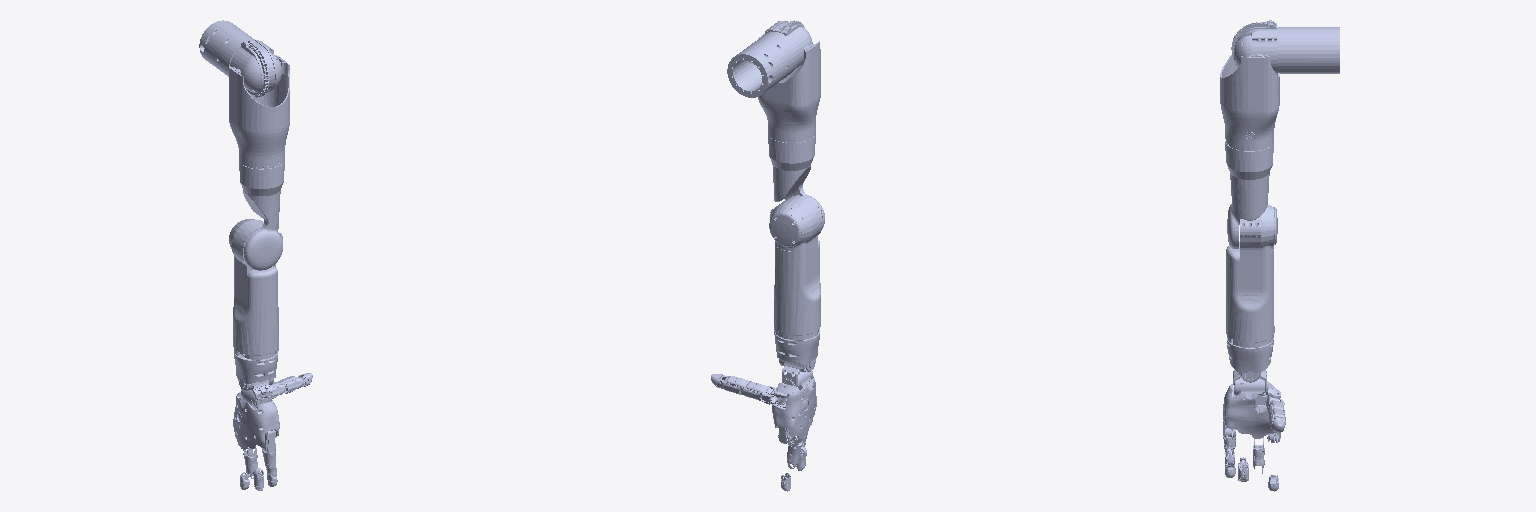
--- What the picture shows (computed from the rendered views, not written in the file) ---
3 views of the same robot in one strip: view 1: azimuth 30°, elevation 25°; view 2: azimuth 150°, elevation 25°; view 3: azimuth 270°, elevation 25° (orthographic).
Model MPL_Shell2 with 29 links and 28 joints (27 revolute, 1 fixed), rooted at base_link, posed every joint at zero.
Visible links, largest first — view 1: forearm, humerus, lower_humerus, shoulder, palm, base_link, wristy; view 2: forearm, humerus, base_link, lower_humerus, palm, wristy, shoulder; view 3: forearm, humerus, lower_humerus, base_link, palm, shoulder, wristy.
Boxes of the visible links, x1,y1,x2,y2 form: forearm: (229,219,282,359); humerus: (229,55,289,168); lower_humerus: (239,162,284,270); shoulder: (230,40,281,97); palm: (233,392,279,449); base_link: (199,20,254,76); wristy: (234,353,277,390); forearm: (769,195,822,339); humerus: (758,34,820,142); base_link: (727,32,798,97); lower_humerus: (768,135,824,234); palm: (772,376,816,438); wristy: (774,329,819,371); shoulder: (765,20,812,77); forearm: (1226,205,1277,347); humerus: (1220,55,1279,150); lower_humerus: (1225,141,1273,248); base_link: (1277,27,1339,73); palm: (1223,382,1280,438); shoulder: (1231,20,1276,73); wristy: (1227,338,1273,382).
Bounding box of the posed robot: 0.1624 × 0.1788 × 0.7751 m (x, y, z).
21 mesh visuals loaded from 29 distinct referenced files (21 OBJ); not drawn: 8 (reference not matched to a file when rendering).

The robot description file, URDF, robot "MPL_Shell2":
<robot
  name="MPL_Shell2">
  <link
    name="base_link">
    <inertial>
      <origin
        xyz="0.00393619295985793 0.0455004970707574 -0.000114423209567375"
        rpy="0 0 0" />
      <mass
        value="0.155708299809078" />
      <inertia
        ixx="0.000198286723644176"
        ixy="5.15825480481307E-06"
        ixz="1.87344010968919E-07"
        iyy="0.000145239460391918"
        iyz="2.40431862621867E-07"
        izz="0.000188079268371058" />
    </inertial>
    <visual>
      <origin
        xyz="0 0 0"
        rpy="0 0 0" />
      <geometry>
        <mesh
          filename="meshes/base_link.obj" />
      </geometry>
      <material
        name="">
        <color
          rgba="0.792156862745098 0.819607843137255 0.933333333333333 1" />
      </material>
    </visual>
  </link>

  <link
    name="shoulder">
    <inertial>
      <origin
        xyz="0.00053626037123725 0.00200195706607822 0.0332799933130828"
        rpy="0 0 0" />
      <mass
        value="0.0363799064562326" />
      <inertia
        ixx="3.73004982794341E-05"
        ixy="5.68583128674669E-07"
        ixz="-7.59540426519701E-07"
        iyy="2.6055803459056E-05"
        iyz="-9.15511861181247E-07"
        izz="3.8618586384315E-05" />
    </inertial>
    <visual>
      <origin
        xyz="0 0 0"
        rpy="0 0 0" />
      <geometry>
        <mesh
          filename="meshes/shoulder.obj" />
      </geometry>
      <material
        name="">
        <color
          rgba="0.792156862745098 0.819607843137255 0.933333333333333 1" />
      </material>
    </visual>
  </link>

  <joint
    name="shoulderz"
    type="revolute">
    <origin
      xyz="0 0 0"
      rpy="1.5707963267949 0 0" />
    <parent
      link="base_link" />
    <child
      link="shoulder" />
    <axis
      xyz="0 0 1" />
  </joint>

 <transmission type="SimpleTransmission" name="shoulderz_trans">
    <actuator name="shoulderz_torque" />
    <joint name="shoulderz" />
    <mechanicalReduction>1</mechanicalReduction>
  </transmission>

  <link
    name="humerus">
    <inertial>
      <origin
        xyz="-0.00522997872428727 -0.0834807430260893 0.0108424934218675"
        rpy="0 0 0" />
      <mass
        value="0.0857897702132028" />
      <inertia
        ixx="0.000259544233373952"
        ixy="-4.20379221363119E-06"
        ixz="9.18423778177478E-07"
        iyy="0.000134353123274701"
        iyz="-1.37916957116714E-05"
        izz="0.0002849825478504" />
    </inertial>
    <visual>
      <origin
        xyz="0 0 0"
        rpy="0 0 0" />
      <geometry>
        <mesh
          filename="meshes/humerus.obj" />
      </geometry>
      <material
        name="">
        <color
          rgba="0.792156862745098 0.819607843137255 0.933333333333333 1" />
      </material>
    </visual>
  </link>

  <joint
    name="shoulderx"
    type="revolute">
    <origin
      xyz="0.00164280000000001 0 0.027295"
      rpy="0 0 0" />
    <parent
      link="shoulder" />
    <child
      link="humerus" />
    <axis
      xyz="-1 0 0" />
  </joint>


 <transmission type="SimpleTransmission" name="shoulderx_trans">
    <actuator name="shoulderx_torque" />
    <joint name="shoulderx" />
    <mechanicalReduction>1</mechanicalReduction>
  </transmission>


  <link
    name="lower_humerus">
    <inertial>
      <origin
        xyz="-0.00116461256867187 -0.00731549753415162 -0.0740904947981883"
        rpy="0 0 0" />
      <mass
        value="0.0351908595008693" />
      <inertia
        ixx="0.000106584594982158"
        ixy="2.34411767892075E-06"
        ixz="5.90981930034932E-06"
        iyy="0.000106707923152588"
        iyz="1.56519202722981E-05"
        izz="3.29647759199842E-05" />
    </inertial>
    <visual>
      <origin
        xyz="0 0 0"
        rpy="0 0 0" />
      <geometry>
        <mesh
          filename="meshes/lower_humerus.obj" />
      </geometry>
      <material
        name="">
        <color
          rgba="0.792156862745098 0.819607843137255 0.933333333333333 1" />
      </material>
    </visual>
  </link>

  <joint
    name="humerus"
    type="revolute">
    <origin
      xyz="-0.0016397 -0.150067219999992 0.0138906542099971"
      rpy="-1.5707963267949 -2.97009943141911E-17 -4.85743832441789E-17" />
    <parent
      link="humerus" />
    <child
      link="lower_humerus" />
    <axis
      xyz="0 0 -1" />
  </joint>

 <transmission type="SimpleTransmission" name="humerus_trans">
    <actuator name="humerus_torque" />
    <joint name="humerus" />
    <mechanicalReduction>1</mechanicalReduction>
  </transmission>


  <link
    name="forearm">
    <inertial>
      <origin
        xyz="0.0215525954489544 -0.0733139430283116 0.000589426653904816"
        rpy="0 0 0" />
      <mass
        value="0.0997004881323453" />
      <inertia
        ixx="0.000498861218238686"
        ixy="3.76068927506325E-05"
        ixz="-3.5608092987334E-07"
        iyy="0.000102150048169159"
        iyz="5.83137758717366E-06"
        izz="0.000499799444466365" />
    </inertial>
    <visual>
      <origin
        xyz="0 0 0"
        rpy="0 0 0" />
      <geometry>
        <mesh
          filename="meshes/forearm.obj" />
      </geometry>
      <material
        name="">
        <color
          rgba="0.792156862745098 0.819607843137255 0.933333333333333 1" />
      </material>
    </visual>
  </link>




  <joint
    name="elbow"
    type="revolute">
    <origin
      xyz="-0.00999999999999948 -0.0153475999999826 -0.144409618700001"
      rpy="1.5707963267949 2.4980018054066E-16 1.5707963267949" />
    <parent
      link="lower_humerus" />
    <child
      link="forearm" />
    <axis
      xyz="1 0 0" />
  </joint>

 <transmission type="SimpleTransmission" name="elbow_torque">
    <actuator name="elbow" />
    <joint name="elbow" />
    <mechanicalReduction>1</mechanicalReduction>
  </transmission>

  <link
    name="wristy">
    <inertial>
      <origin
        xyz="-0.0217787533515095 -0.000286183263809584 -7.07475168545829E-05"
        rpy="0 0 0" />
      <mass
        value="0.0272933414299216" />
      <inertia
        ixx="2.46772724290599E-05"
        ixy="1.77307535049132E-07"
        ixz="7.89922349608001E-09"
        iyy="1.71121898499667E-05"
        iyz="4.35170097875038E-09"
        izz="1.7702950570702E-05" />
    </inertial>
    <visual>
      <origin
        xyz="0 0 0"
        rpy="0 0 0" />
      <geometry>
        <mesh
          filename="meshes/wristy.obj" />
      </geometry>
      <material
        name="">
        <color
          rgba="0.792156862745098 0.819607843137255 0.933333333333333 1" />
      </material>
    </visual>
  </link>

  <joint
    name="wristy"
    type="revolute">
    <origin
      xyz="0.0159663173620475 -0.185433999999999 0"
      rpy="-1.5707963267949 -1.36002320516583E-15 1.57079632679502" />
    <parent
      link="forearm" />
    <child
      link="wristy" />
    <axis
      xyz="-1 0 0" />
  </joint>

 <transmission type="SimpleTransmission" name="wristy_trans">
    <actuator name="wristy_torque" />
    <joint name="wristy" />
    <mechanicalReduction>1</mechanicalReduction>
  </transmission>

  <link
    name="wristx">
    <inertial>
      <origin
        xyz="-0.00252668105418901 -0.00975188648737202 -0.00139174414834004"
        rpy="0 0 0" />
      <mass
        value="0.0106909767992069" />
      <inertia
        ixx="5.04229378071644E-06"
        ixy="-4.2000584831686E-08"
        ixz="-5.11929723120262E-09"
        iyy="4.22942261613775E-06"
        iyz="1.50151167686402E-07"
        izz="3.2799533577572E-06" />
    </inertial>
    <visual>
      <origin
        xyz="0 0 0"
        rpy="0 0 0" />
      <geometry>
        <mesh
          filename="meshes/wristx.obj" />
      </geometry>
      <material
        name="">
        <color
          rgba="0.792156862745098 0.819607843137255 0.933333333333333 1" />
      </material>
    </visual>
  </link>

  <joint
    name="wristx"
    type="revolute">
    <origin
      xyz="-0.0476452 0.00203763491182761 -3.36826379749022E-05"
      rpy="3.14159265358979 -2.85997139454283E-15 1.5707963267949" />
    <parent
      link="wristy" />
    <child
      link="wristx" />
    <axis
      xyz="-1 0 0" />
  </joint>

 <transmission type="SimpleTransmission" name="wristx_trans">
    <actuator name="wristx_torque" />
    <joint name="wristx" />
    <mechanicalReduction>1</mechanicalReduction>
  </transmission>

  <link
    name="wristz">
    <inertial>
      <origin
        xyz="-0.000455967598428706 -0.00125951677917735 0.000579015605829236"
        rpy="0 0 0" />
      <mass
        value="0.00602247084483471" />
      <inertia
        ixx="1.43255769043491E-06"
        ixy="1.51084513948656E-08"
        ixz="7.79120926693573E-10"
        iyy="1.57976698495145E-06"
        iyz="2.71504225165823E-09"
        izz="1.26863177317152E-06" />
    </inertial>
    <visual>
      <origin
        xyz="0 0 0"
        rpy="0 0 0" />
      <geometry>
        <mesh
          filename="meshes/wristz.obj" />
      </geometry>
      <material
        name="">
        <color
          rgba="0.792156862745098 0.819607843137255 0.933333333333333 1" />
      </material>
    </visual>
  </link>

  <joint
    name="wristz"
    type="revolute">
    <origin
      xyz="-0.00209400000175488 -0.0299999999999968 -0.000187200001735867"
      rpy="3.14159265358967 3.66488308739579E-15 -3.14159265358979" />
    <parent
      link="wristx" />
    <child
      link="wristz" />
    <axis
      xyz="0 0 -1" />
  </joint>

 <transmission type="SimpleTransmission" name="wristz_trans">
    <actuator name="wristz_torque" />
    <joint name="wristz" />
    <mechanicalReduction>1</mechanicalReduction>
  </transmission>


  <link
    name="palm">
    <inertial>
      <origin
        xyz="-0.0124635761485956 0.0238765260006965 0.0211718276361491"
        rpy="0 0 0" />
      <mass
        value="0.0932249189972487" />
      <inertia
        ixx="9.13635658564679E-05"
        ixy="2.26923051263853E-06"
        ixz="-2.9944410545557E-07"
        iyy="5.22587462242499E-05"
        iyz="-1.65090250755118E-06"
        izz="7.38624729314462E-05" />
    </inertial>
    <visual>
      <origin
        xyz="0 0 0"
        rpy="0 0 0" />
      <geometry>
        <mesh
          filename="meshes/palm.obj" />
      </geometry>
      <material
        name="">
        <color
          rgba="0.792156862745098 0.819607843137255 0.933333333333333 1" />
      </material>
    </visual>
  </link>

  <joint
    name="palm"
    type="fixed">
    <origin
      xyz="0.010259 -0.022525 -0.033869"
      rpy="1.3088 0.052303 0.076401" />
    <parent
      link="wristz" />
    <child
      link="palm" />
    <axis
      xyz="0 0 0" />
  </joint>

 <transmission type="SimpleTransmission" name="palm_trans">
    <actuator name="palm_torque" />
    <joint name="palm" />
    <mechanicalReduction>1</mechanicalReduction>
  </transmission>

  <link
    name="index1">
    <inertial>
      <origin
        xyz="0.00020614559516789 0.00548493955028884 -0.000142558806238502"
        rpy="0 0 0" />
      <mass
        value="0.00295578735276272" />
      <inertia
        ixx="4.02188542971774E-07"
        ixy="4.58692336785966E-09"
        ixz="5.00514905149032E-10"
        iyy="1.9404806387498E-07"
        iyz="-4.23309499957816E-09"
        izz="4.22374542417521E-07" />
    </inertial>
    <visual>
      <origin
        xyz="0 0 0"
        rpy="0 0 0" />
      <geometry>
        <mesh
          filename="meshes/index1.obj" />
      </geometry>
      <material
        name="">
        <color
          rgba="0.792156862745098 0.819607843137255 0.933333333333333 1" />
      </material>
    </visual>
  </link>


  <joint
    name="index1"
    type="revolute">
    <origin
      xyz="-0.014417 -0.013617 0.040131"
      rpy="1.3267 0.1312 -2.9409" />
    <parent
      link="palm" />
    <child
      link="index1" />
    <axis
      xyz="-1 0 0" />
    <limit
      effort="0"
      velocity="0" />
  </joint>

 <transmission type="SimpleTransmission" name="index1_trans">
    <actuator name="index1_torque" />
    <joint name="index1" />
    <mechanicalReduction>1</mechanicalReduction>
  </transmission>


  <link
    name="index2">
    <inertial>
      <origin
        xyz="0.000655655364277082 0.0213125459360581 0.000406397665143287"
        rpy="0 0 0" />
      <mass
        value="0.00478226526501448" />
      <inertia
        ixx="7.95401055929008E-07"
        ixy="1.18999904739261E-08"
        ixz="1.780498789936E-10"
        iyy="3.06544531935587E-07"
        iyz="1.28837160695393E-09"
        izz="8.18587860484427E-07" />
    </inertial>
    <visual>
      <origin
        xyz="0 0 0"
        rpy="0 0 0" />
      <geometry>
        <mesh
          filename="meshes/index2.obj" />
      </geometry>
      <material
        name="">
        <color
          rgba="0.792156862745098 0.819607843137255 0.933333333333333 1" />
      </material>
    </visual>
   
  </link>
  <joint
    name="index2"
    type="revolute">
    <origin
      xyz="0 0.018 6.26000000001087E-05"
      rpy="1.56992474575901E-16 -5.55111512312578E-17 0.0218090253858622" />
    <parent
      link="index1" />
    <child
      link="index2" />
    <axis
      xyz="0 0 -1" />
  </joint>

 <transmission type="SimpleTransmission" name="index2_trans">
    <actuator name="index2_torque" />
    <joint name="index2" />
    <mechanicalReduction>1</mechanicalReduction>
  </transmission>


  <link
    name="index3">
    <inertial>
      <origin
        xyz="0.000572643142834381 0.0126889633565876 -0.00084160174984519"
        rpy="0 0 0" />
      <mass
        value="0.00344766597154545" />
      <inertia
        ixx="3.57436053918331E-07"
        ixy="-2.03269066702914E-08"
        ixz="7.99715421249574E-10"
        iyy="1.07106131082521E-07"
        iyz="6.41728361285024E-09"
        izz="3.63785356055814E-07" />
    </inertial>
    <visual>
      <origin
        xyz="0 0 0"
        rpy="0 0 0" />
      <geometry>
        <mesh
          filename="meshes/index3.obj" />
      </geometry>
      <material
        name="">
        <color
          rgba="0.792156862745098 0.819607843137255 0.933333333333333 1" />
      </material>
    </visual>
  </link>

  <joint
    name="index3"
    type="revolute">
    <origin
      xyz="0.000500000000003571 0.0435 0.00108599999999995"
      rpy="-1.719978326431E-15 -9.15933995315754E-16 -6.89293457381557E-14" />
    <parent
      link="index2" />
    <child
      link="index3" />
    <axis
      xyz="0 0 -1" />
  </joint>

 <transmission type="SimpleTransmission" name="index3_trans">
    <actuator name="index3_torque" />
    <joint name="index3" />
    <mechanicalReduction>1</mechanicalReduction>
  </transmission>

  <link
    name="index4">
    <inertial>
      <origin
        xyz="-0.000903462263858363 0.0125318083645921 -4.31769336839988E-05"
        rpy="0 0 0" />
      <mass
        value="0.00274415996393347" />
      <inertia
        ixx="1.19449725027233E-07"
        ixy="2.7797031318046E-09"
        ixz="-5.6762655930663E-12"
        iyy="7.79733588773189E-08"
        iyz="-4.0321242385536E-12"
        izz="1.09201884617795E-07" />
    </inertial>
    <visual>
      <origin
        xyz="0 0 0"
        rpy="0 0 0" />
      <geometry>
        <mesh
          filename="meshes/index4.obj" />
      </geometry>
      <material
        name="">
        <color
          rgba="0.792156862745098 0.819607843137255 0.933333333333333 1" />
      </material>
    </visual>
  </link>

  <joint
    name="index4"
    type="revolute">
    <origin
      xyz="0 0.0244999999999997 -0.000634999999999922"
      rpy="3.14159265358979 1.38777878078145E-16 -3.14159265358979" />
    <parent
      link="index3" />
    <child
      link="index4" />
    <axis
      xyz="0 0 1" />
  </joint>

 <transmission type="SimpleTransmission" name="index4_trans">
    <actuator name="index4_torque" />
    <joint name="index4" />
    <mechanicalReduction>1</mechanicalReduction>
  </transmission>

  <link
    name="middle1">
    <inertial>
      <origin
        xyz="0.000206163156215938 0.00548494288374568 -0.000142555900031375"
        rpy="0 0 0" />
      <mass
        value="0.00295579444103146" />
      <inertia
        ixx="4.0218871124189E-07"
        ixy="4.58719518672439E-09"
        ixz="5.00538742724125E-10"
        iyy="1.94047865583898E-07"
        iyz="-4.23307801589345E-09"
        izz="4.22374444781543E-07" />
    </inertial>
    <visual>
      <origin
        xyz="0 0 0"
        rpy="0 0 0" />
      <geometry>
        <mesh
          filename="meshes/middle1.obj" />
      </geometry>
      <material
        name="">
        <color
          rgba="0.792156862745098 0.819607843137255 0.933333333333333 1" />
      </material>
    </visual>
  </link>

  <joint
    name="middle1"
    type="revolute">
    <origin
      xyz="-0.0209384347663463 0.00492458734083651 0.0573494099495476"
      rpy="1.30913244146118 0.00304707657383507 -3.08826100854655" />
    <parent
      link="palm" />
    <child
      link="middle1" />
    <axis
      xyz="-1 0 0" />
  </joint>

 <transmission type="SimpleTransmission" name="middle1_trans">
    <actuator name="middle1_torque" />
    <joint name="middle1" />
    <mechanicalReduction>1</mechanicalReduction>
  </transmission>

  <link
    name="middle2">
    <inertial>
      <origin
        xyz="0.000655656337174182 0.0213125466194375 0.000406401138875141"
        rpy="0 0 0" />
      <mass
        value="0.00478226670435687" />
      <inertia
        ixx="7.95401027312374E-07"
        ixy="1.18999959631096E-08"
        ixz="1.77978503020841E-10"
        iyy="3.06544628087073E-07"
        iyz="1.28837536063901E-09"
        izz="8.18587990027117E-07" />
    </inertial>
    <visual>
      <origin
        xyz="0 0 0"
        rpy="0 0 0" />
      <geometry>
        <mesh
          filename="meshes/middle2.obj" />
      </geometry>
      <material
        name="">
        <color
          rgba="0.792156862745098 0.819607843137255 0.933333333333333 1" />
      </material>
    </visual>
  </link>

  <joint
    name="middle2"
    type="revolute">
    <origin
      xyz="0 0.0180000000000007 6.2600000000107E-05"
      rpy="1.57011539981636E-16 -4.7891569957944E-17 0.0218090253858622" />
    <parent
      link="middle1" />
    <child
      link="middle2" />
    <axis
      xyz="0 0 -1" />
  </joint>

 <transmission type="SimpleTransmission" name="middle2_trans">
    <actuator name="middle2_torque" />
    <joint name="middle2" />
    <mechanicalReduction>1</mechanicalReduction>
  </transmission>

  <link
    name="middle3">
    <inertial>
      <origin
        xyz="0.000572644351825441 0.0126889752403015 -0.000841535347221766"
        rpy="0 0 0" />
      <mass
        value="0.00344767436500704" />
      <inertia
        ixx="3.57437093902647E-07"
        ixy="-2.03267321495935E-08"
        ixz="7.98658462558699E-10"
        iyy="1.07106839998747E-07"
        iyz="6.41746344551026E-09"
        izz="3.63784751586843E-07" />
    </inertial>
    <visual>
      <origin
        xyz="0 0 0"
        rpy="0 0 0" />
      <geometry>
        <mesh
          filename="meshes/middle3.obj" />
      </geometry>
      <material
        name="">
        <color
          rgba="0.792156862745098 0.819607843137255 0.933333333333333 1" />
      </material>
    </visual>
  </link>

  <joint
    name="middle3"
    type="revolute">
    <origin
      xyz="0.000500000000003567 0.0435000000000001 0.00108599999999996"
      rpy="-1.72031740475951E-15 -9.35032946541239E-16 -6.89309720414134E-14" />
    <parent
      link="middle2" />
    <child
      link="middle3" />
    <axis
      xyz="0 0 -1" />
  </joint>

 <transmission type="SimpleTransmission" name="middle3_trans">
    <actuator name="middle3_torque" />
    <joint name="middle3" />
    <mechanicalReduction>1</mechanicalReduction>
  </transmission>

  <link
    name="middle4">
    <inertial>
      <origin
        xyz="-0.00090342086396468 0.0125318189255644 -4.31035597565597E-05"
        rpy="0 0 0" />
      <mass
        value="0.00274418883435034" />
      <inertia
        ixx="1.1945085576179E-07"
        ixy="2.77981899454222E-09"
        ixz="-5.12554117691565E-12"
        iyy="7.79746487284232E-08"
        iyz="-3.8717877866095E-12"
        izz="1.09202239907363E-07" />
    </inertial>
    <visual>
      <origin
        xyz="0 0 0"
        rpy="0 0 0" />
      <geometry>
        <mesh
          filename="meshes/middle4.obj" />
      </geometry>
      <material
        name="">
        <color
          rgba="0.792156862745098 0.819607843137255 0.933333333333333 1" />
      </material>
    </visual>
  </link>

  <joint
    name="middle4"
    type="revolute">
    <origin
      xyz="0 0.0245000000000003 -0.000634999999999948"
      rpy="3.14159265358979 1.13713291763624E-16 -3.14159265358979" />
    <parent
      link="middle3" />
    <child
      link="middle4" />
    <axis
      xyz="0 0 1" />
  </joint>

 <transmission type="SimpleTransmission" name="middle4_trans">
    <actuator name="middle4_torque" />
    <joint name="middle4" />
    <mechanicalReduction>1</mechanicalReduction>
  </transmission>

  <link
    name="ring1">
    <inertial>
      <origin
        xyz="0.000206144674893209 0.0054849383898028 -0.000142564116473266"
        rpy="0 0 0" />
      <mass
        value="0.00295578685443727" />
      <inertia
        ixx="4.02188516309226E-07"
        ixy="4.58692769105901E-09"
        ixz="5.00594233023491E-10"
        iyy="1.94048069338058E-07"
        iyz="-4.23310814676126E-09"
        izz="4.22374536366058E-07" />
    </inertial>
    <visual>
      <origin
        xyz="0 0 0"
        rpy="0 0 0" />
      <geometry>
        <mesh
          filename="meshes/ring1.obj" />
      </geometry>
      <material
        name="">
        <color
          rgba="0.792156862745098 0.819607843137255 0.933333333333333 1" />
      </material>
    </visual>
  </link>

 <joint
    name="ring1"
    type="revolute">
    <origin
      xyz="-0.0173619522633254 0.0298556268944343 0.0527828904025909"
      rpy="1.29726814130052 0.0409899530617424 3.00365962493585" />
    <parent
      link="palm" />
    <child
      link="ring1" />
    <axis
      xyz="-1 0 0" />
  </joint>

 <transmission type="SimpleTransmission" name="ring1_trans">
    <actuator name="ring1_torque" />
    <joint name="ring1" />
    <mechanicalReduction>1</mechanicalReduction>
  </transmission>

  <link
    name="ring2">
    <inertial>
      <origin
        xyz="0.000655643578583283 0.0213125486308142 0.000406423648704836"
        rpy="0 0 0" />
      <mass
        value="0.00478228673206125" />
      <inertia
        ixx="7.95401808567871E-07"
        ixy="1.18998213267075E-08"
        ixz="1.77884042875398E-10"
        iyy="3.06545076163242E-07"
        iyz="1.28808220134735E-09"
        izz="8.18589075286881E-07" />
    </inertial>
    <visual>
      <origin
        xyz="0 0 0"
        rpy="0 0 0" />
      <geometry>
        <mesh
          filename="meshes/ring2.obj" />
      </geometry>
      <material
        name="">
        <color
          rgba="0.792156862745098 0.819607843137255 0.933333333333333 1" />
      </material>
    </visual>
  </link>

  <joint
    name="ring2"
    type="revolute">
    <origin
      xyz="0 0.0180000000000001 6.2600000000114E-05"
      rpy="1.56992474575901E-16 -2.77555756156289E-17 0.0218090253858622" />
    <parent
      link="ring1" />
    <child
      link="ring2" />
    <axis
      xyz="0 0 -1" />
  </joint>

 <transmission type="SimpleTransmission" name="ring2_trans">
    <actuator name="ring2_torque" />
    <joint name="ring2" />
    <mechanicalReduction>1</mechanicalReduction>
  </transmission>

  <link
    name="ring3">
    <inertial>
      <origin
        xyz="0.00057268354366645 0.0126889632203925 -0.000841478203711936"
        rpy="0 0 0" />
      <mass
        value="0.00344765712629595" />
      <inertia
        ixx="3.57436175925954E-07"
        ixy="-2.03272107424788E-08"
        ixz="7.97771294720232E-10"
        iyy="1.07105906951034E-07"
        iyz="6.4174544068651E-09"
        izz="3.63784884200763E-07" />
    </inertial>
    <visual>
      <origin
        xyz="0 0 0"
        rpy="0 0 0" />
      <geometry>
        <mesh
          filename="meshes/ring3.obj" />
      </geometry>
      <material
        name="">
        <color
          rgba="0.792156862745098 0.819607843137255 0.933333333333333 1" />
      </material>
    </visual>
  </link>

  <joint
    name="ring3"
    type="revolute">
    <origin
      xyz="0.000500000000003574 0.0435000000000002 0.00108599999999996"
      rpy="-1.719978326431E-15 -9.15933995315754E-16 -6.89269604933762E-14" />
    <parent
      link="ring2" />
    <child
      link="ring3" />
    <axis
      xyz="0 0 -1" />
  </joint>

 <transmission type="SimpleTransmission" name="ring3_trans">
    <actuator name="ring3_torque" />
    <joint name="ring3" />
    <mechanicalReduction>1</mechanicalReduction>
  </transmission>

  <link
    name="ring4">
    <inertial>
      <origin
        xyz="-0.000903465274649531 0.0125318035823621 -4.31783671653516E-05"
        rpy="0 0 0" />
      <mass
        value="0.00274415613178302" />
      <inertia
        ixx="1.19449527952084E-07"
        ixy="2.77967908517532E-09"
        ixz="-5.69695003796795E-12"
        iyy="7.79732148182653E-08"
        iyz="-3.98658391295813E-12"
        izz="1.09201774132422E-07" />
    </inertial>
    <visual>
      <origin
        xyz="0 0 0"
        rpy="0 0 0" />
      <geometry>
        <mesh
          filename="meshes/ring4.obj" />
      </geometry>
      <material
        name="">
        <color
          rgba="0.792156862745098 0.819607843137255 0.933333333333333 1" />
      </material>
    </visual>
  </link>

  <joint
    name="ring4"
    type="revolute">
    <origin
      xyz="0 0.0245000000000004 -0.000634999999999927"
      rpy="3.14159265358979 1.11022302462516E-16 -3.14159265358979" />
    <parent
      link="ring3" />
    <child
      link="ring4" />
    <axis
      xyz="0 0 1" />
  </joint>

 <transmission type="SimpleTransmission" name="ring4_trans">
    <actuator name="ring4_torque" />
    <joint name="ring4" />
    <mechanicalReduction>1</mechanicalReduction>
  </transmission>


  <link
    name="pinky1">
    <inertial>
      <origin
        xyz="0.000142563822196226 0.00538483821992819 0.000206145021280045"
        rpy="0 0 0" />
      <mass
        value="0.00295578702193345" />
      <inertia
        ixx="4.22374540647275E-07"
        ixy="4.23310894489419E-09"
        ixz="-5.00599382623153E-10"
        iyy="1.94048080035688E-07"
        iyz="4.58692676339803E-09"
        izz="4.02188525445446E-07" />
    </inertial>
    <visual>
      <origin
        xyz="0 0 0"
        rpy="0 0 0" />
      <geometry>
        <mesh
          filename="meshes/pinky1.obj" />
      </geometry>
      <material
        name="">
        <color
          rgba="0.792156862745098 0.819607843137255 0.933333333333333 1" />
      </material>
    </visual>
  </link>

  <joint
    name="pinky1"
    type="revolute">
    <origin
      xyz="-0.0118654996072796 0.0532752561873083 0.0477499795158182"
      rpy="1.61336709193684 0.273292530911941 -1.6972329288972" />
    <parent
      link="palm" />
    <child
      link="pinky1" />
    <axis
      xyz="0 0 -1" />
  </joint>

 <transmission type="SimpleTransmission" name="pinky1_trans">
    <actuator name="pinky1_torque" />
    <joint name="pinky1" />
    <mechanicalReduction>1</mechanicalReduction>
  </transmission>

  <link
    name="pinky2">
    <inertial>
      <origin
        xyz="0.000924752161548095 0.0160478239595567 0.000458605009191093"
        rpy="0 0 0" />
      <mass
        value="0.00340990492680565" />
      <inertia
        ixx="3.83589528937808E-07"
        ixy="9.60195836403551E-09"
        ixz="-1.42076396177027E-09"
        iyy="2.20448989585984E-07"
        iyz="1.80181779993061E-09"
        izz="4.03282329409878E-07" />
    </inertial>
    <visual>
      <origin
        xyz="0 0 0"
        rpy="0 0 0" />
      <geometry>
        <mesh
          filename="meshes/pinky2.obj" />
      </geometry>
      <material
        name="">
        <color
          rgba="0.792156862745098 0.819607843137255 0.933333333333333 1" />
      </material>
    </visual>  
  </link>

  <joint
    name="pinky2"
    type="revolute">
    <origin
      xyz="-6.26000000000654E-05 0.0178999000000001 0"
      rpy="-1.5707963267949 -1.42564316620607 1.5707963267949" />
    <parent
      link="pinky1" />
    <child
      link="pinky2" />
    <axis
      xyz="0 0 -1" />
  </joint>

 <transmission type="SimpleTransmission" name="pinky2_trans">
    <actuator name="pinky2_torque" />
    <joint name="pinky2" />
    <mechanicalReduction>1</mechanicalReduction>
  </transmission>

  <link
    name="pinky3">
    <inertial>
      <origin
        xyz="0.000738513765579887 0.00914634674221348 -0.000270848377196917"
        rpy="0 0 0" />
      <mass
        value="0.00250622195615789" />
      <inertia
        ixx="1.7455284577019E-07"
        ixy="-1.17824738377136E-08"
        ixz="3.24626221353354E-10"
        iyy="7.59882144241849E-08"
        iyz="3.87956675682691E-09"
        izz="1.78940923958127E-07" />
    </inertial>
    <visual>
      <origin
        xyz="0 0 0"
        rpy="0 0 0" />
      <geometry>
        <mesh
          filename="meshes/pinky3.obj" />
      </geometry>
      <material
        name="">
        <color
          rgba="0.792156862745098 0.819607843137255 0.933333333333333 1" />
      </material>
    </visual>
  </link>

  <joint
    name="pinky3"
    type="revolute">
    <origin
      xyz="0.000499999999999889 0.0330000000000003 0.000577999999999995"
      rpy="-1.64798730217797E-15 -8.60422844084496E-16 6.6266436782314E-16" />
    <parent
      link="pinky2" />
    <child
      link="pinky3" />
    <axis
      xyz="0 0 -1" />
  </joint>

 <transmission type="SimpleTransmission" name="pinky3_trans">
    <actuator name="pinky3_torque" />
    <joint name="pinky3" />
    <mechanicalReduction>1</mechanicalReduction>
  </transmission>

  <link
    name="pinky4">
    <inertial>
      <origin
        xyz="0.000912797857438336 0.0125008504210756 3.76129340926012E-05"
        rpy="0 0 0" />
      <mass
        value="0.00273081616008703" />
      <inertia
        ixx="1.18909209951679E-07"
        ixy="-2.63828296392581E-09"
        ixz="2.18714153368257E-11"
        iyy="7.78907949616935E-08"
        iyz="-3.96524648718146E-11"
        izz="1.08560276947631E-07" />
    </inertial>
    <visual>
      <origin
        xyz="0 0 0"
        rpy="0 0 0" />
      <geometry>
        <mesh
          filename="meshes/pinky4.obj" />
      </geometry>
      <material
        name="">
        <color
          rgba="0.792156862745098 0.819607843137255 0.933333333333333 1" />
      </material>
    </visual>
  </link>

  <joint
    name="pinky4"
    type="revolute">
    <origin
      xyz="0 0.0174999999999998 -4.780000000007E-05"
      rpy="0 2.4980018054066E-16 -5.19549681055054E-16" />
    <parent
      link="pinky3" />
    <child
      link="pinky4" />
    <axis
      xyz="0 0 -1" />
  </joint>

 <transmission type="SimpleTransmission" name="pinky4_trans">
    <actuator name="pinky4_torque" />
    <joint name="pinky4" />
    <mechanicalReduction>1</mechanicalReduction>
  </transmission>

  <link
    name="thumb1">
    <inertial>
      <origin
        xyz="0.00863332730106438 -0.00231588938410798 -0.000364461389468301"
        rpy="0 0 0" />
      <mass
        value="0.00336693679065055" />
      <inertia
        ixx="2.44090094627291E-07"
        ixy="-1.56851483833158E-08"
        ixz="-4.31870092363317E-08"
        iyy="4.49381492245604E-07"
        iyz="-5.78045100470672E-10"
        izz="4.40715456367223E-07" />
    </inertial>
    <visual>
      <origin
        xyz="0 0 0"
        rpy="0 0 0" />
      <geometry>
        <mesh
          filename="meshes/thumb1.obj" />
      </geometry>
      <material
        name="">
        <color
          rgba="0.792156862745098 0.819607843137255 0.933333333333333 1" />
      </material>
    </visual>
  </link>

  <joint
    name="thumb1"
    type="revolute">
    <origin
      xyz="0 0 -0.00476960000000048"
      rpy="-1.5707963267949 -1.56472057533108E-15 1.94289029309402E-16" />
    <parent
      link="palm" />
    <child
      link="thumb1" />
    <axis
      xyz="0 -1 0" />
  </joint>

 <transmission type="SimpleTransmission" name="thumb1_trans">
    <actuator name="thumb1_torque" />
    <joint name="thumb1" />
    <mechanicalReduction>1</mechanicalReduction>
  </transmission>

  <link
    name="thumb2">
    <inertial>
      <origin
        xyz="-0.000361461248041484 -0.0189988244918281 0.000782015326772745"
        rpy="0 0 0" />
      <mass
        value="0.00597943752105777" />
      <inertia
        ixx="9.86775553054745E-07"
        ixy="-7.97121704583963E-09"
        ixz="2.45237431259238E-09"
        iyy="5.34577193706388E-07"
        iyz="1.8691715878871E-08"
        izz="9.43696453381427E-07" />
    </inertial>
    <visual>
      <origin
        xyz="0 0 0"
        rpy="0 0 0" />
      <geometry>
        <mesh
          filename="meshes/thumb2.obj" />
      </geometry>
      <material
        name="">
        <color
          rgba="0.792156862745098 0.819607843137255 0.933333333333333 1" />
      </material>
    </visual>
  </link>

  <joint
    name="thumb2"
    type="revolute">
    <origin
      xyz="0.0209171904291636 -0.00299899999999997 -0.00284159999999972"
      rpy="3.14159265358979 -9.71445146547012E-16 -1.5707963267949" />
    <parent
      link="thumb1" />
    <child
      link="thumb2" />
    <axis
      xyz="0 0 1" />
  </joint>

 <transmission type="SimpleTransmission" name="thumb2_trans">
    <actuator name="thumb2_torque" />
    <joint name="thumb2" />
    <mechanicalReduction>1</mechanicalReduction>
  </transmission>

  <link
    name="thumb3">
    <inertial>
      <origin
        xyz="-0.000360051801295391 -0.0188954598917676 0.000202889322317296"
        rpy="0 0 0" />
      <mass
        value="0.00600527362411647" />
      <inertia
        ixx="9.96656337084621E-07"
        ixy="-1.07461093618471E-08"
        ixz="4.92554054789797E-10"
        iyy="5.18698291352084E-07"
        iyz="-3.49367360376412E-08"
        izz="9.63528932704355E-07" />
    </inertial>
    <visual>
      <origin
        xyz="0 0 0"
        rpy="0 0 0" />
      <geometry>
        <mesh
          filename="meshes/thumb3.obj" />
      </geometry>
      <material
        name="">
        <color
          rgba="0.792156862745098 0.819607843137255 0.933333333333333 1" />
      </material>
    </visual>
  </link>

  <joint
    name="thumb3"
    type="revolute">
    <origin
      xyz="0 -0.0334999999999986 -0.000108399999999703"
      rpy="1.31838984174237E-15 6.10622663543836E-16 -5.42690892224584E-14" />
    <parent
      link="thumb2" />
    <child
      link="thumb3" />
    <axis
      xyz="0 0 -1" />
  </joint>

 <transmission type="SimpleTransmission" name="thumb3_trans">
    <actuator name="thumb3_torque" />
    <joint name="thumb3" />
    <mechanicalReduction>1</mechanicalReduction>
  </transmission>

  <link
    name="thumb4">
    <inertial>
      <origin
        xyz="-0.0436607197221455 0.558076227586552 0.148029727000038"
        rpy="0 0 0" />
      <mass
        value="0" />
      <inertia
        ixx="0"
        ixy="0"
        ixz="0"
        iyy="0"
        iyz="0"
        izz="0" />
    </inertial>
    <visual>
      <origin
        xyz="0 0 0"
        rpy="0 0 0" />
      <geometry>
        <mesh
          filename="meshes/thumb4.obj" />
      </geometry>
      <material
        name="">
        <color
          rgba="0.792156862745098 0.819607843137255 0.933333333333333 1" />
      </material>
    </visual>
  </link>

  <joint
    name="thumb4"
    type="revolute">
    <origin
      xyz="0 -0.0334999999999579 -0.000147600000002829"
      rpy="3.14159265358979 -5.13478148889135E-16 -1.57079632679484" />
    <parent
      link="thumb3" />
    <child
      link="thumb4" />
    <axis
      xyz="0 0 1" />
  </joint>

 <transmission type="SimpleTransmission" name="thumb4_trans">
    <actuator name="thumb4_torque" />
    <joint name="thumb4" />
    <mechanicalReduction>1</mechanicalReduction>
  </transmission>

</robot>
